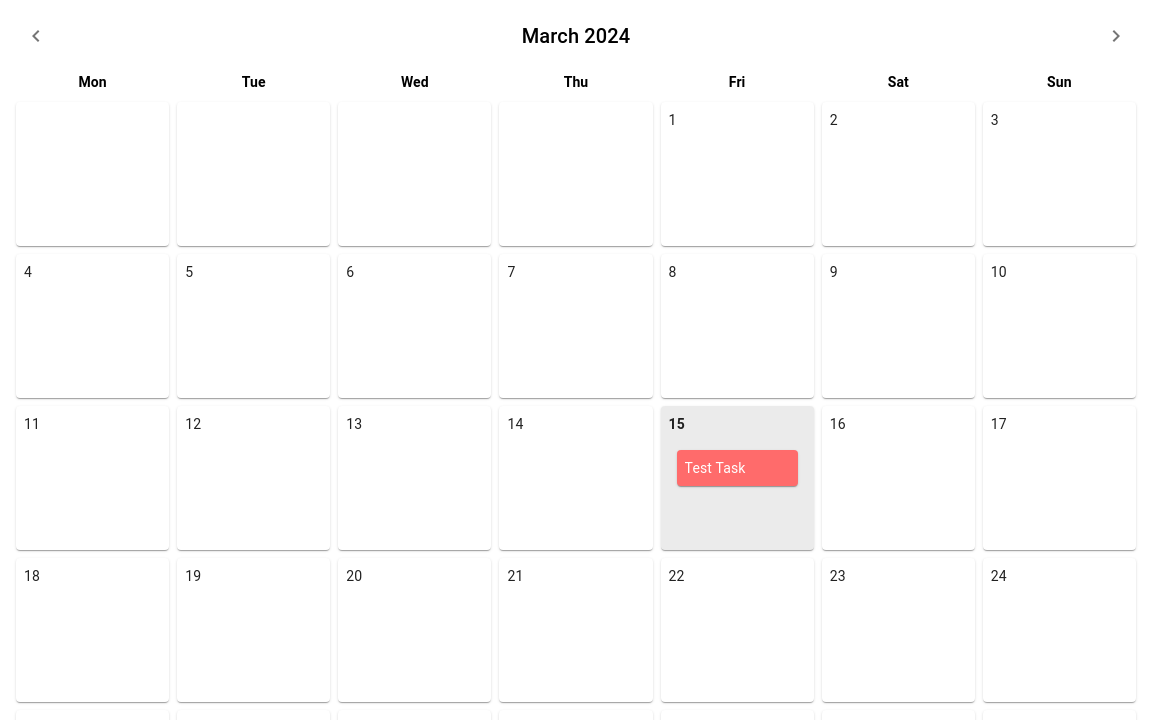
Test: Calendar › navigates to next month when clicking next button
This screenshot has width=1152, height=720.
Find the next button by its icon
Click the button with test id "ChevronRightIcon" at (1116,36), box 1096,16 -> 1136,56
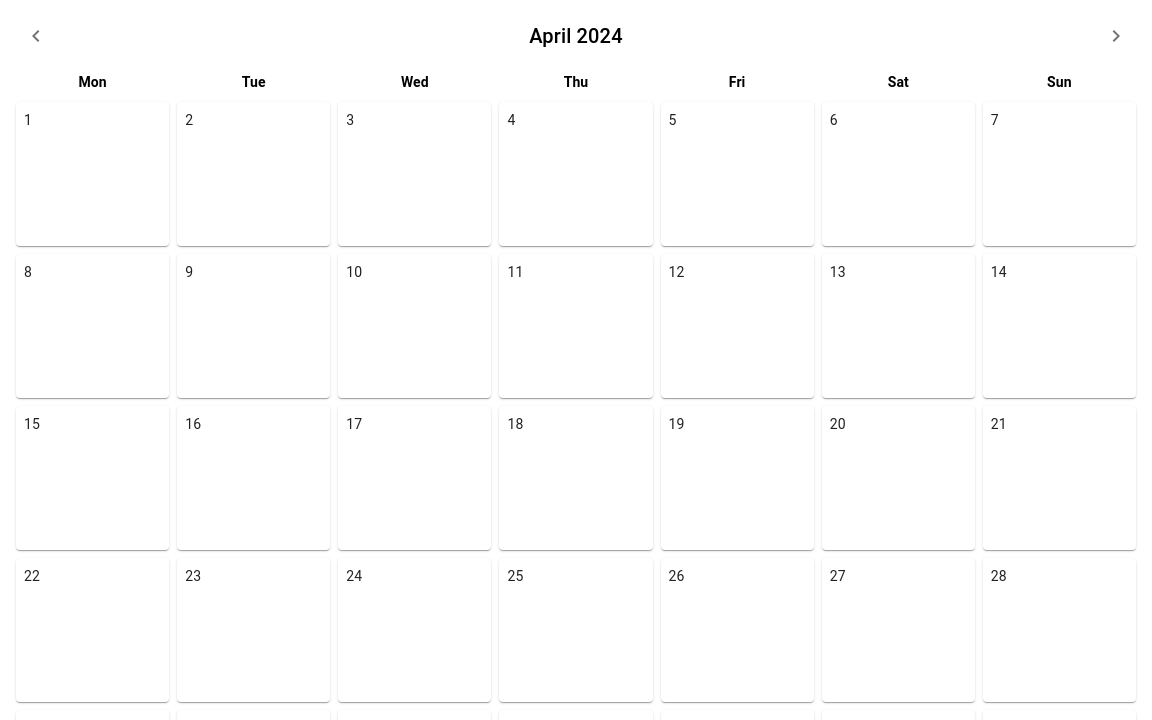
Expected: the heading "April 2024" is shown, 529,20 -> 623,52
